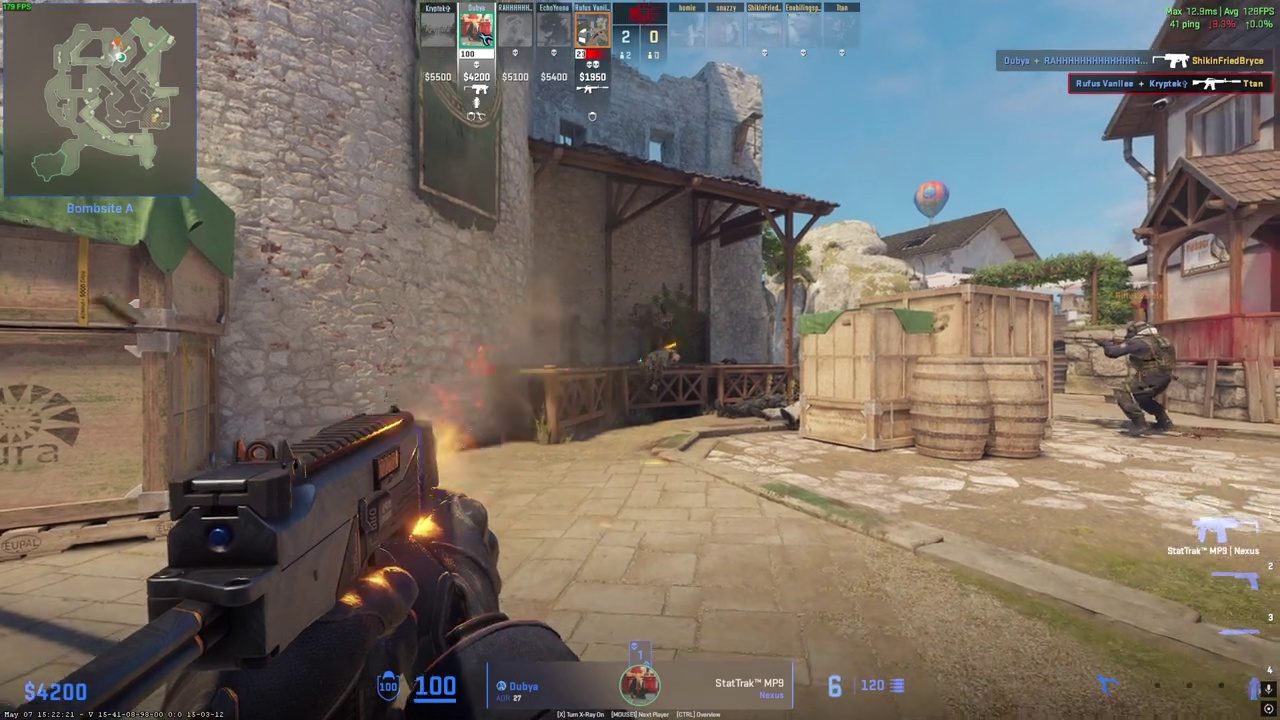CT: (1108, 320, 1176, 435)
